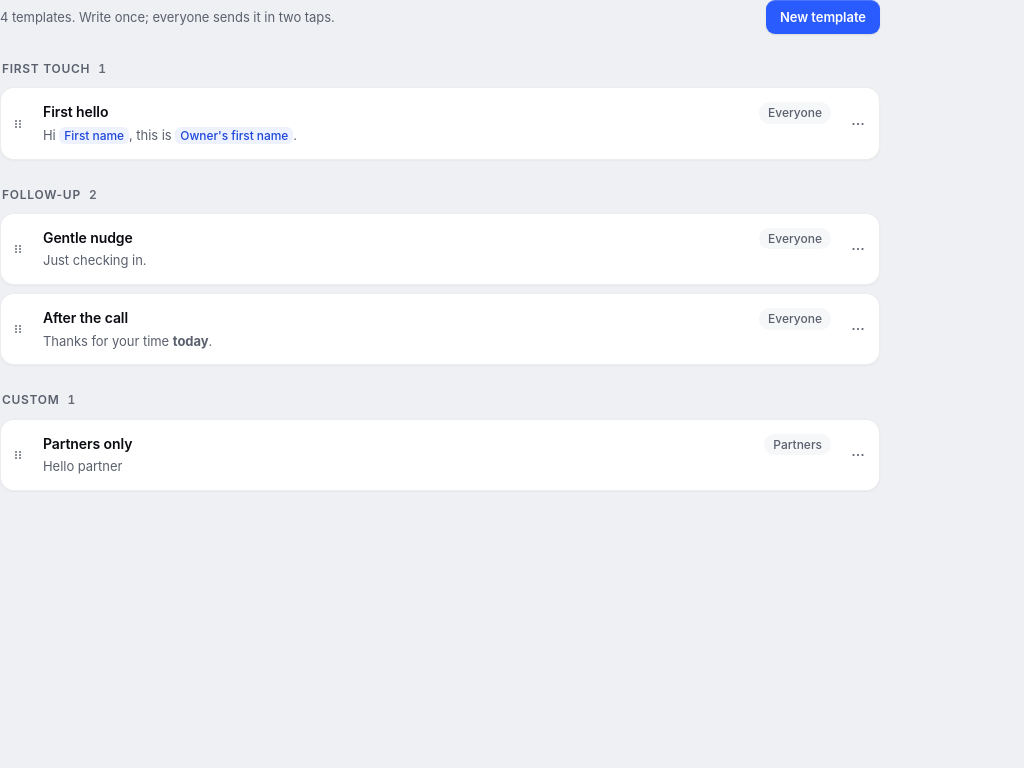
Scenario: the template library (4A Task 5) › 4A review: Esc with unsaved words asks first — Keep editing, or Discard
Click the button "New template".
click(823, 17)  # box left=766, top=0, right=880, bottom=34
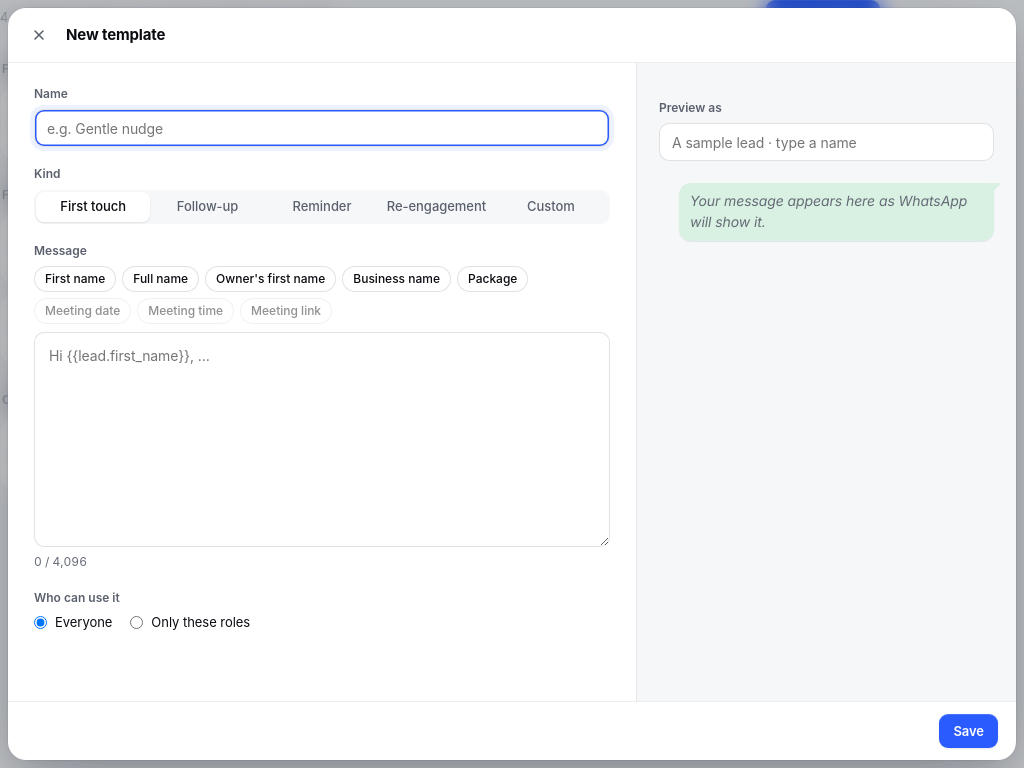
Type "Half a thought" into the text box labelled "Message".
click(322, 440); type("Half a thought")  # box left=34, top=332, right=610, bottom=547
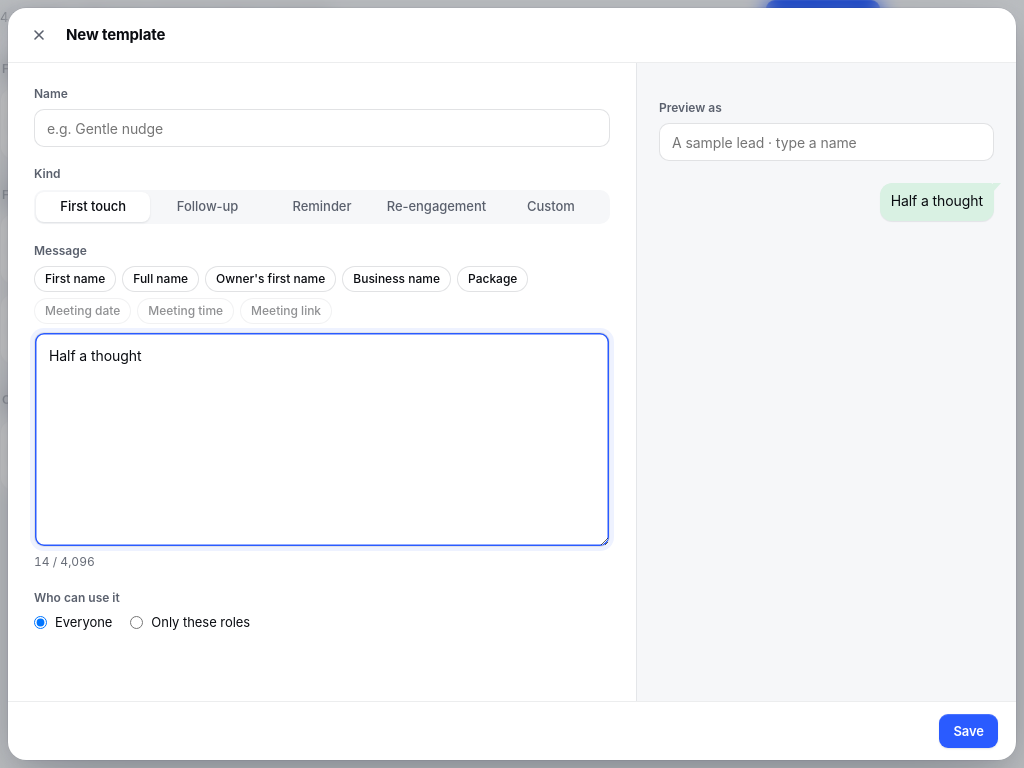
Press Escape
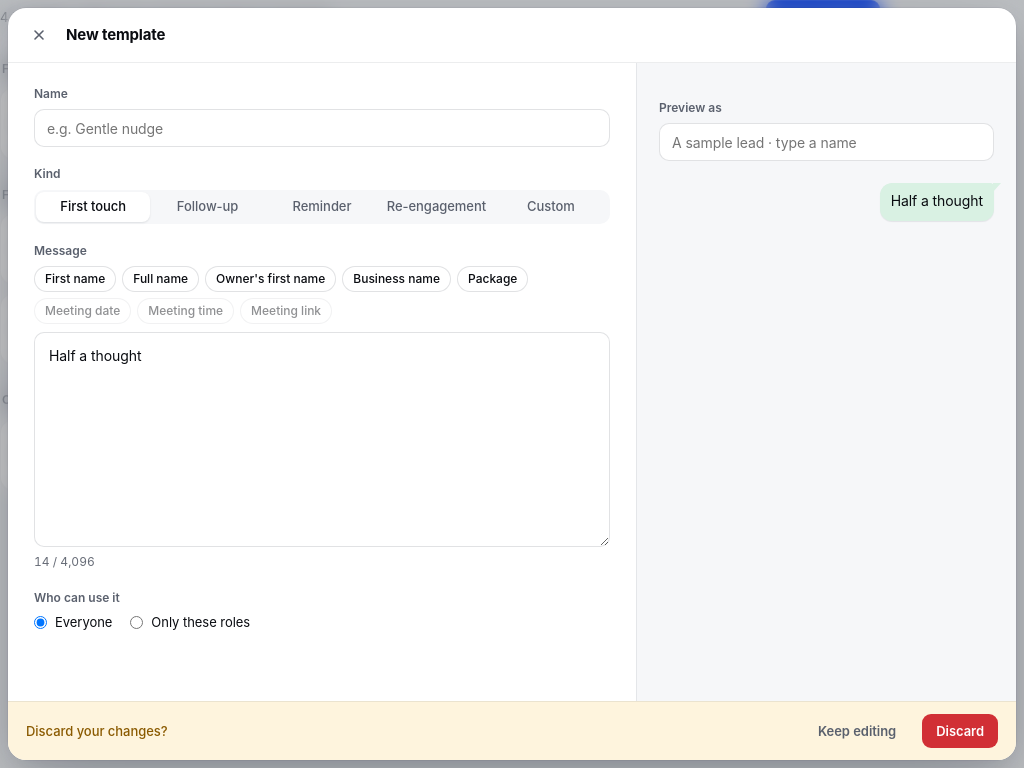
Click the button "Keep editing".
click(857, 731)  # box left=804, top=714, right=910, bottom=748
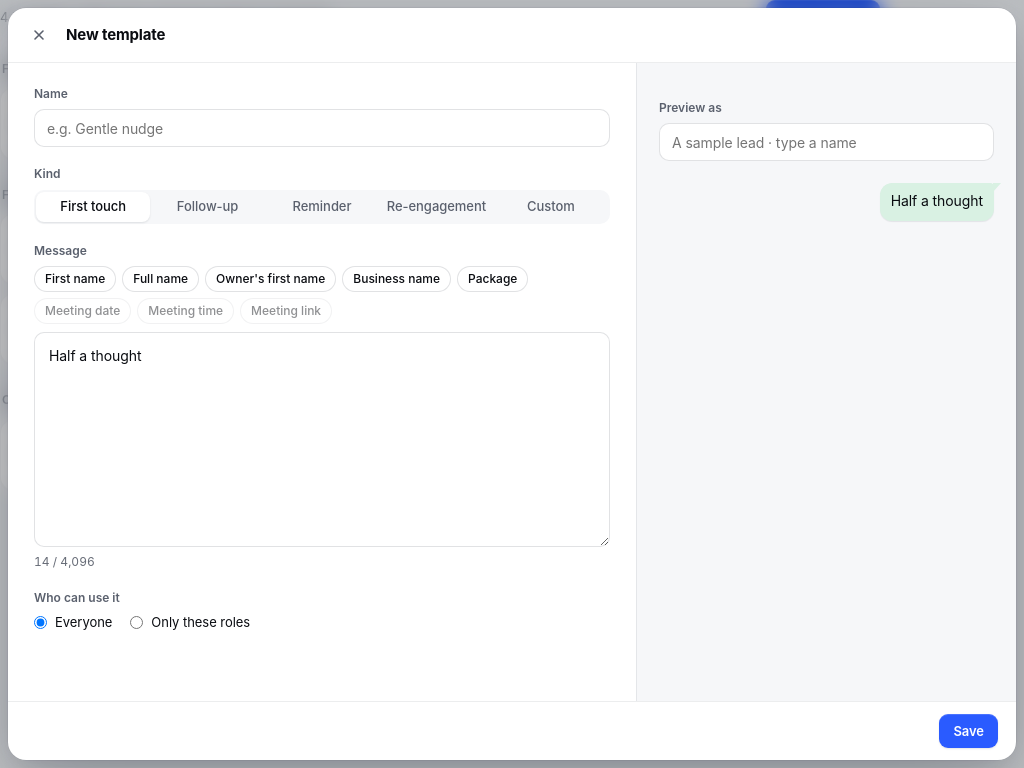
Press Escape
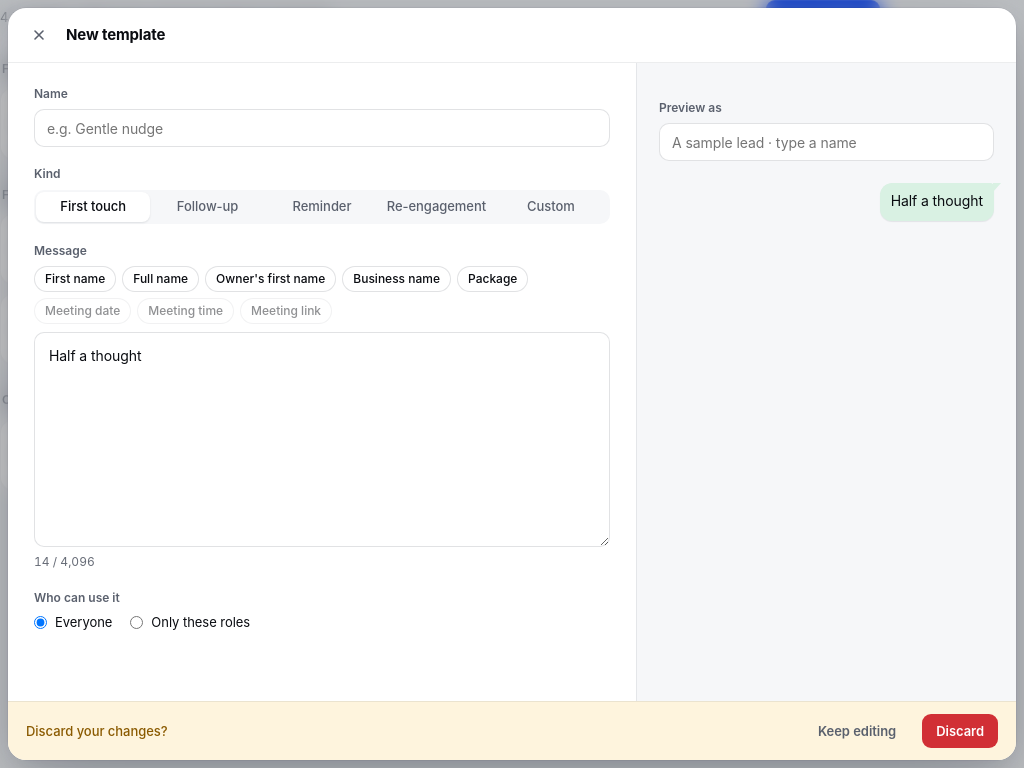
Click the button "Discard".
click(960, 731)  # box left=922, top=714, right=998, bottom=748
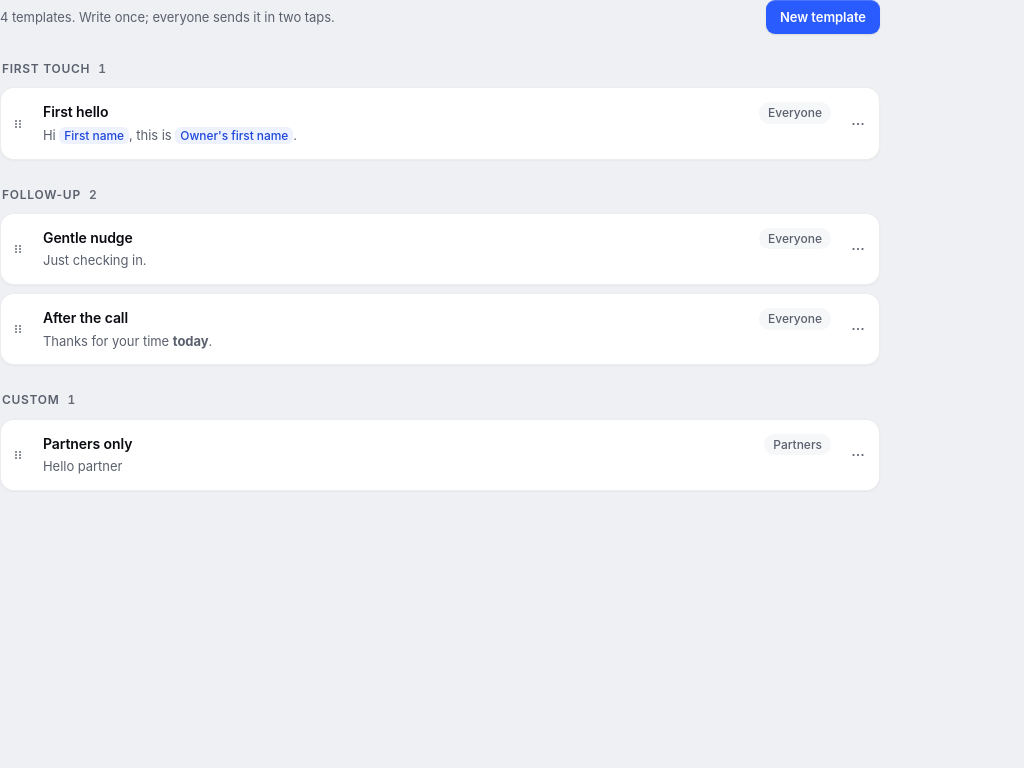
expect the dialog is gone: met
